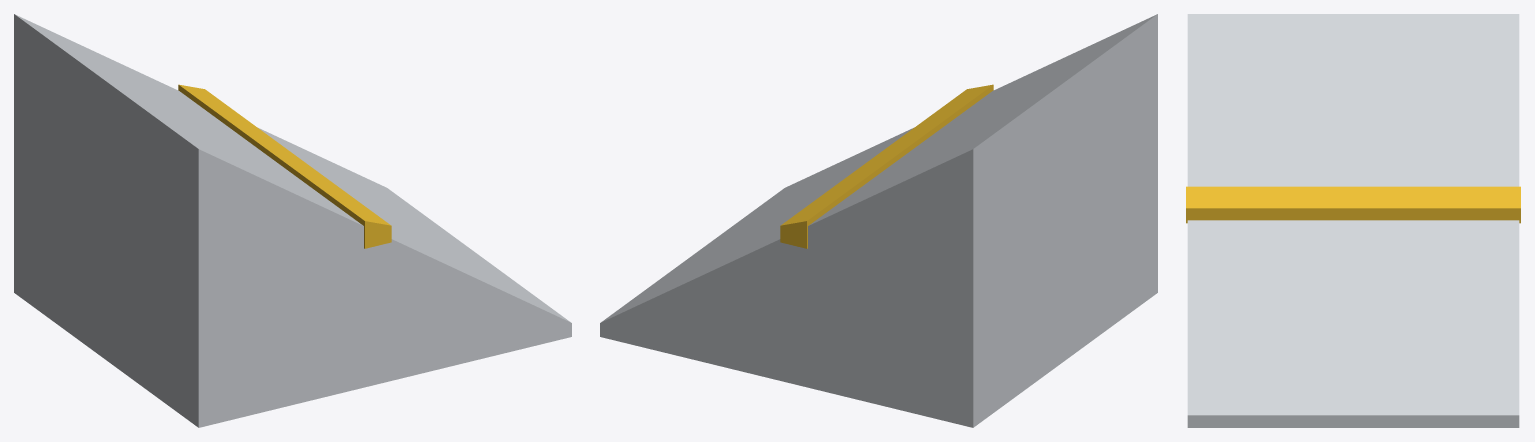
The model's file is wedge.glb.
3 views of the same model, side by side, from view 1: azimuth 30°, elevation 25°; view 2: azimuth 150°, elevation 25°; view 3: azimuth 270°, elevation 25° (orthographic). The views are drawn at different scales.
Parts seen in each view (by area): view 1: wedge; view 2: wedge; view 3: wedge.
Part boxes in pixels (<box>): wedge: <box>14,14,571,427</box>; wedge: <box>600,14,1157,427</box>; wedge: <box>1186,14,1520,427</box>.
Bounding box in the file's own units: 1.4 × 1 × 1.21.
